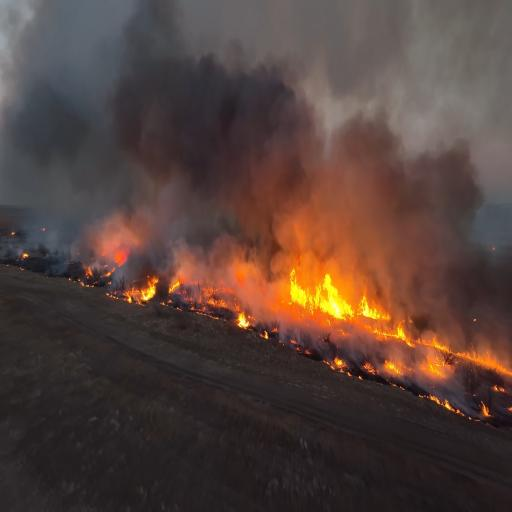fire: (288, 262, 350, 324), (353, 295, 413, 353), (114, 280, 162, 311)
smoke: (127, 12, 292, 221), (272, 97, 474, 266)
